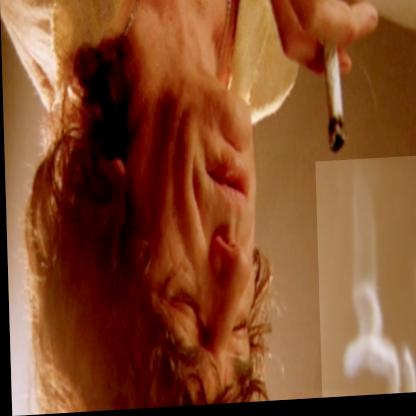smoke: (314, 161, 416, 402)
